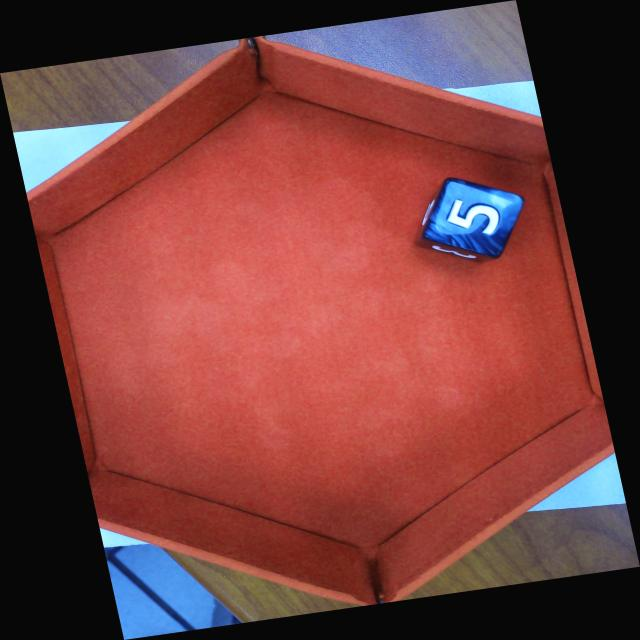dice: (419, 176, 526, 260)
